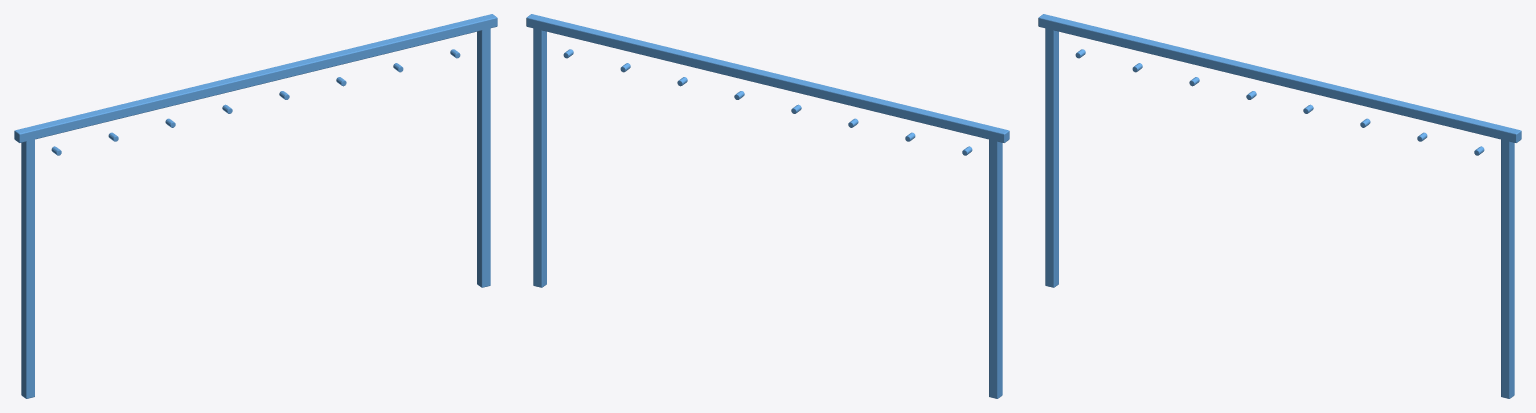
Rendered from PGK_Monkey_4m_LOD0.fbx.
The picture shows the model from 3 angles, left to right: view 1: azimuth 30°, elevation 25°; view 2: azimuth 150°, elevation 25°; view 3: azimuth 330°, elevation 25°; orthographic projection.
Parts seen in each view (by area): view 1: Top, Leg.001, Leg; view 2: Top, Leg.001, Leg; view 3: Top, Leg, Leg.001.
Boxes of the visible parts, x1,y1,x2,y2 form: Top: (14,14,497,142); Leg.001: (477,25,490,287); Leg: (21,136,34,398); Top: (526,14,1009,142); Leg.001: (533,25,546,287); Leg: (989,136,1002,398); Top: (1038,14,1521,142); Leg: (1045,25,1058,287); Leg.001: (1501,136,1514,398).
Bounding box in the file's own units: 4.2 × 2.24 × 0.08.
